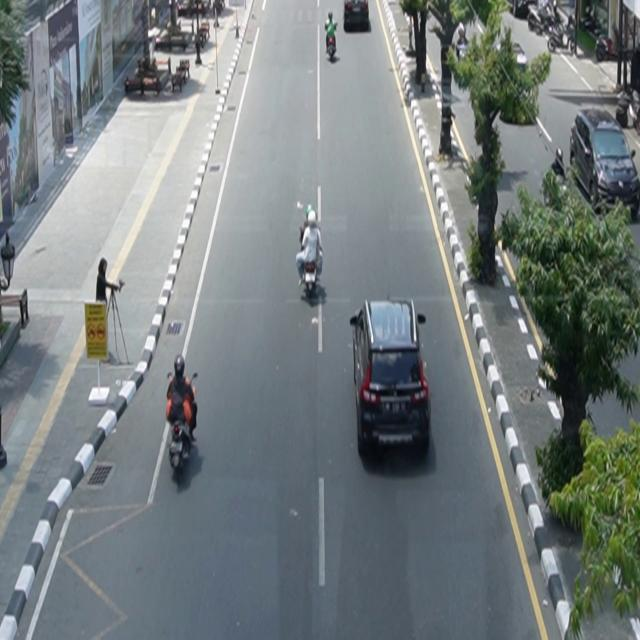car: (350, 297, 432, 459), (570, 107, 640, 222), (344, 1, 369, 32)
